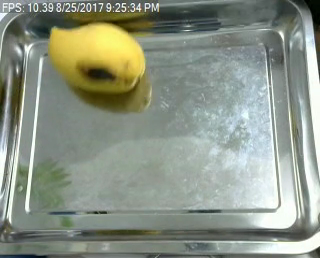Mango: (45, 18, 149, 97)
